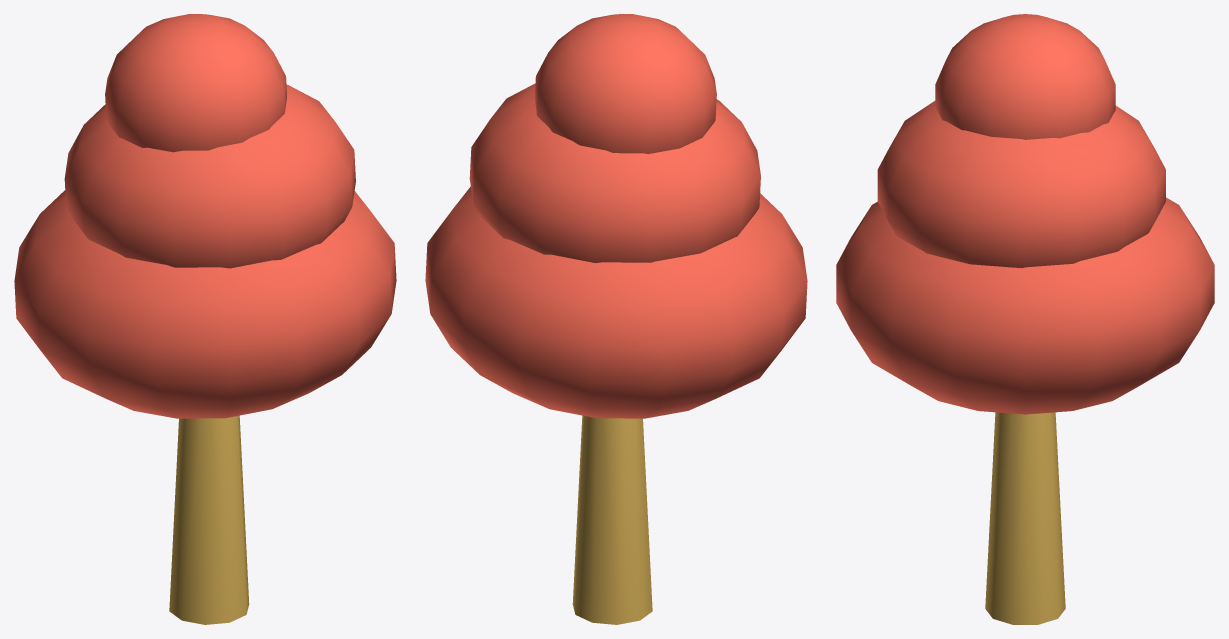
Rendered from scenery1.glb.
3 renders of one model, left to right at view 1: azimuth 30°, elevation 25°; view 2: azimuth 150°, elevation 25°; view 3: azimuth 270°, elevation 25°, orthographic.
Parts seen in each view (by area): view 1: canopy_mesh, root_mesh; view 2: canopy_mesh, root_mesh; view 3: canopy_mesh, root_mesh.
Boxes of the visible parts, x1,y1,x2,y2 form: canopy_mesh: [14, 14, 396, 418]; root_mesh: [169, 415, 249, 624]; canopy_mesh: [425, 14, 807, 418]; root_mesh: [572, 415, 652, 624]; canopy_mesh: [836, 14, 1214, 414]; root_mesh: [985, 412, 1065, 624].
Size of the model in its own units: 2.08 by 3.5 by 2.07.
